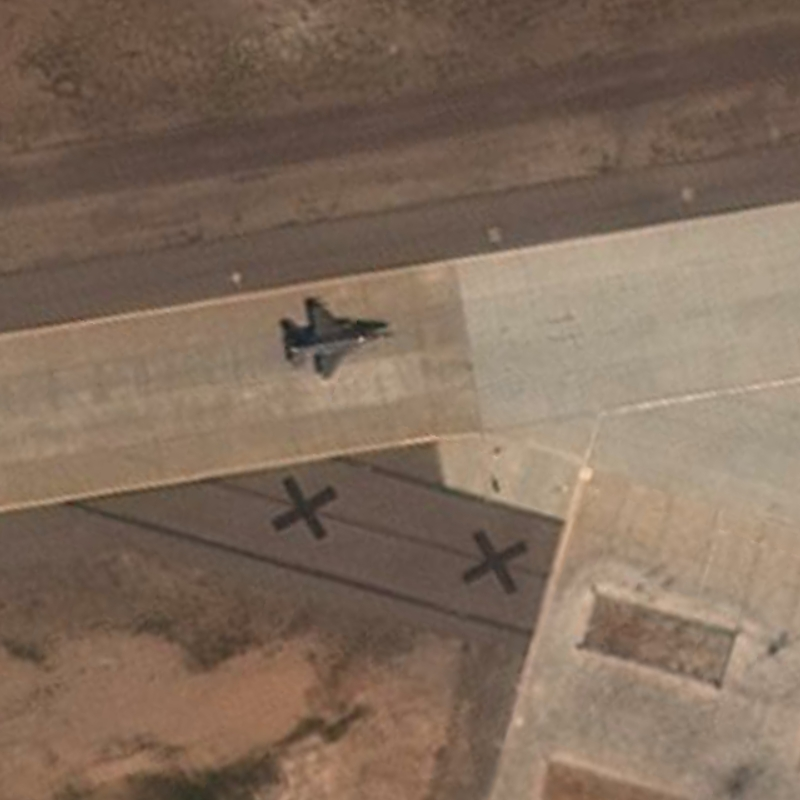A5: (281, 297, 395, 385)
